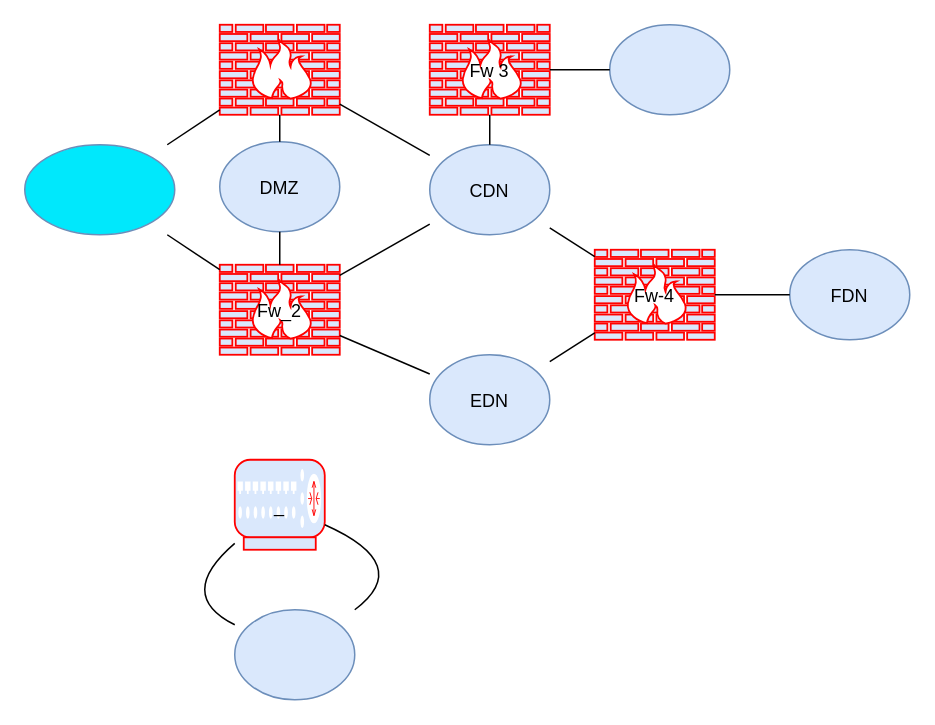
This 935x725 diagram has some shape labels left out. The shapes that lost their labels are listed below. From the top down, each one's centre as x and y in pixels, then its label:
At [279,69]: "Fw-1".
At [669,69]: "ADN".
At [99,189]: "Internet".
At [294,654]: "BDN".
